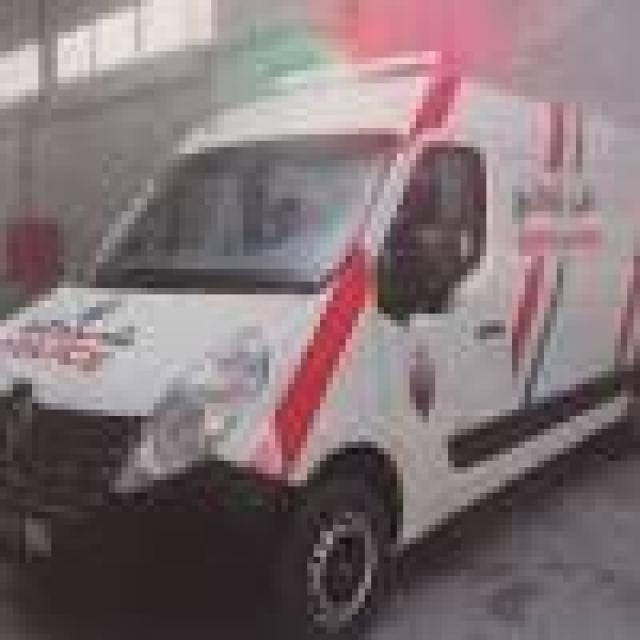police: (0, 46, 640, 636)
